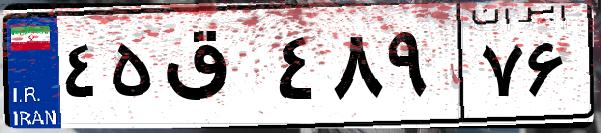4: (270, 28, 330, 110), (57, 26, 110, 100)
5: (110, 28, 158, 98)
6: (525, 38, 570, 115)
7: (475, 38, 525, 113)
8: (330, 28, 385, 110)
9: (385, 28, 445, 110)
ق: (158, 20, 270, 120)
